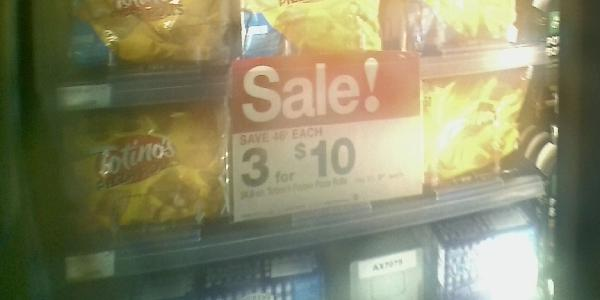icecream: (52, 109, 229, 235), (418, 76, 543, 186)
